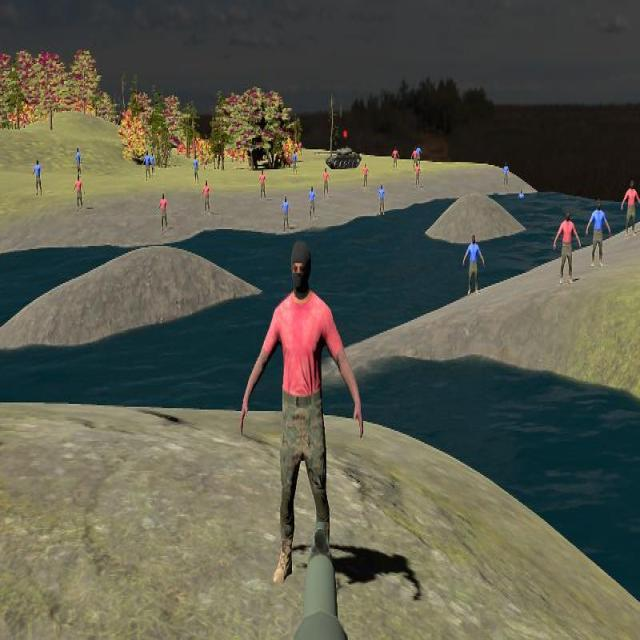Human: (240, 237, 363, 585), (553, 211, 581, 284), (554, 211, 581, 284), (586, 199, 612, 268), (463, 234, 484, 297), (621, 180, 640, 238)
Tank: (313, 147, 362, 170)
